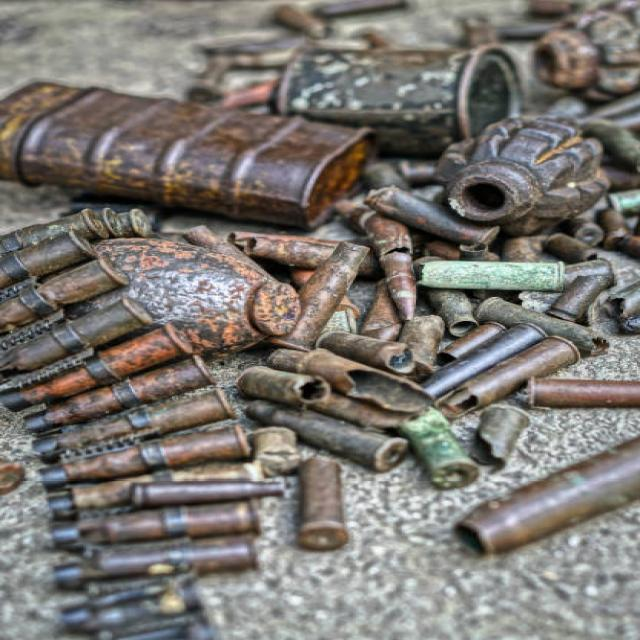grenade: (434, 107, 621, 235)
